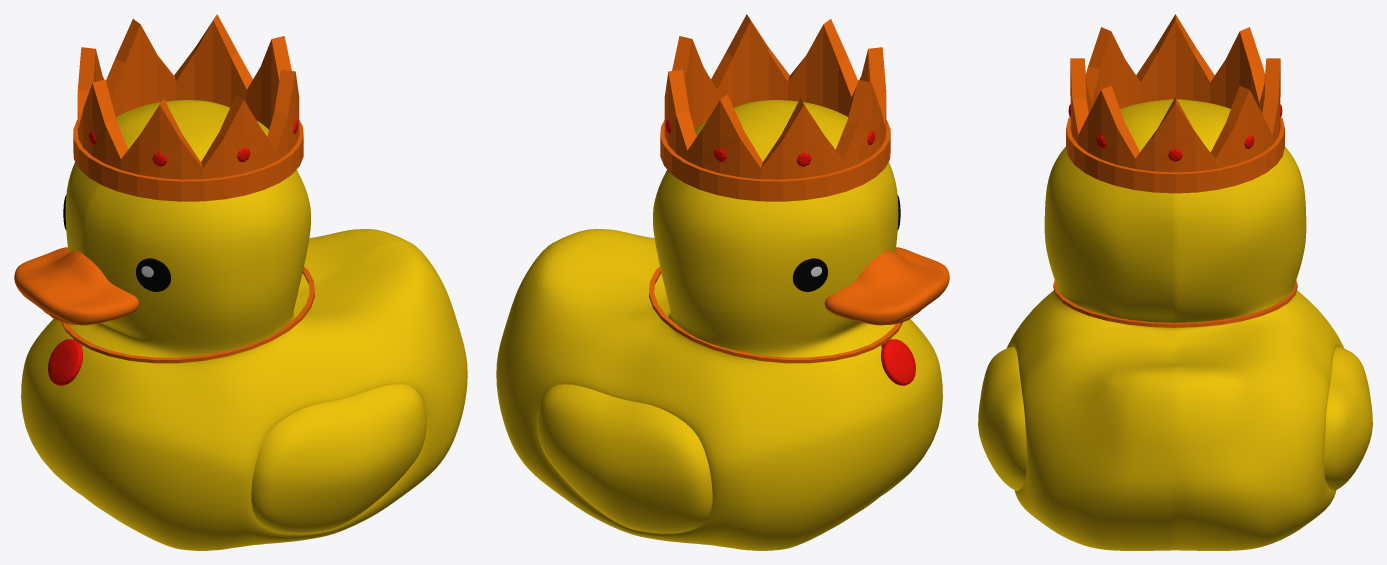
The model's file is Duck.fbx.
The picture shows the model from 3 angles, left to right: view 1: azimuth 30°, elevation 25°; view 2: azimuth 150°, elevation 25°; view 3: azimuth 270°, elevation 25°; orthographic projection. The views are drawn at different scales.
Visible parts, largest first — view 1: Duck; view 2: Duck; view 3: Duck.
Part boxes in pixels (<box>): Duck: <box>14,14,467,550</box>; Duck: <box>496,14,949,550</box>; Duck: <box>978,14,1372,550</box>.
Size of the model in its own units: 2099 by 2170 by 1833.
